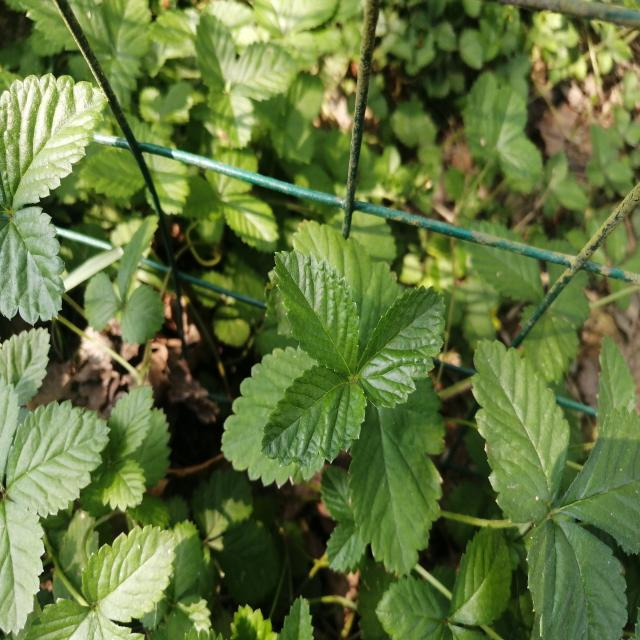Mock_strawberry: (236, 236, 481, 536)
